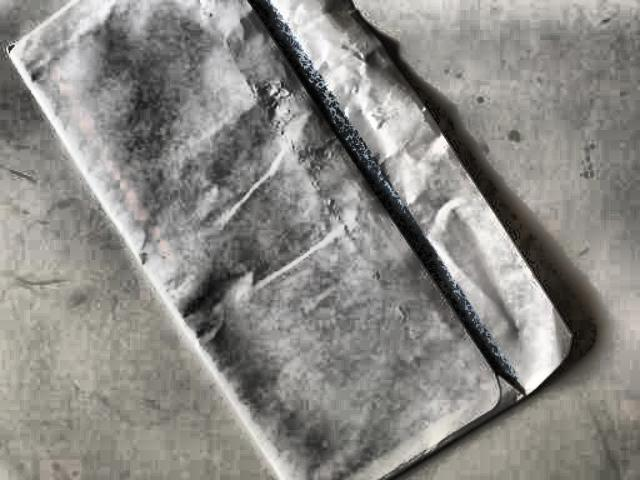Paper: (7, 0, 563, 480)
